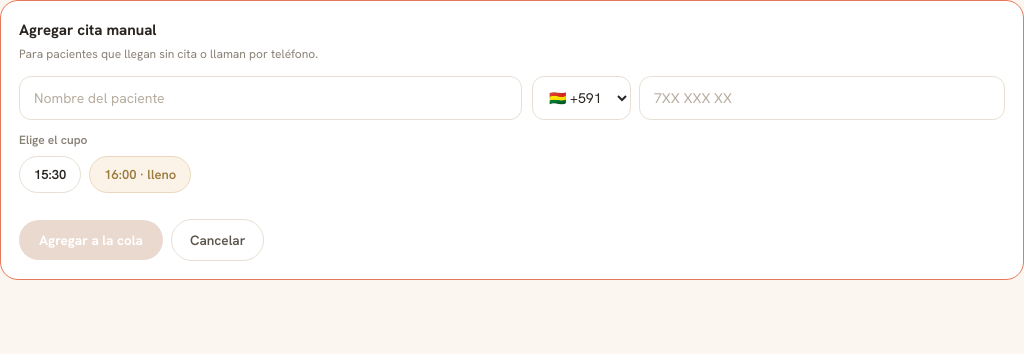
Test: ManualAppointmentForm › shows an over-capacity notice only when the chosen slot is full
Expected: the text "ya alcanzó su capacidad" is not shown
Step 1. Click the button "16:00 · lleno" → [140, 174], box x1=89 y1=156 x2=191 y2=193
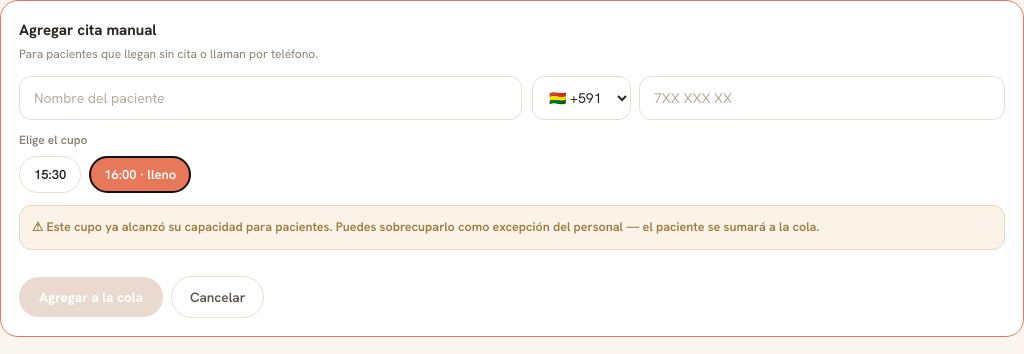
Result: the text "ya alcanzó su capacidad" is shown at x1=32 y1=218 x2=819 y2=235
